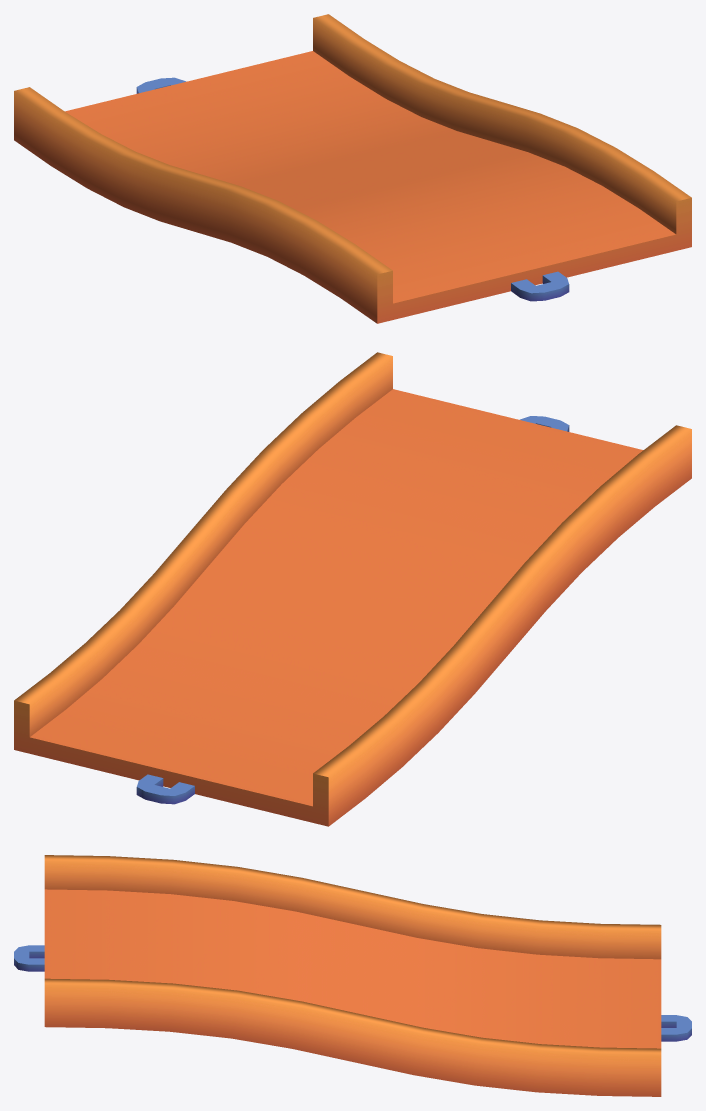
File: track-wide-straight-hill-complete-half.glb
3 renders of one model, top to bottom at view 1: azimuth 30°, elevation 25°; view 2: azimuth 150°, elevation 25°; view 3: azimuth 270°, elevation 25°, orthographic. The views are drawn at different scales.
Visible parts, largest first — view 1: track-wide-straight-hill-complete-half; view 2: track-wide-straight-hill-complete-half; view 3: track-wide-straight-hill-complete-half.
Part boxes in pixels (bbox=[...]): track-wide-straight-hill-complete-half: bbox=[14, 14, 691, 323]; track-wide-straight-hill-complete-half: bbox=[14, 352, 691, 826]; track-wide-straight-hill-complete-half: bbox=[14, 855, 691, 1096].
Size of the model in its own units: 2 by 0.8001 by 4.4.
Materials: 1 (1 with a texture image).
